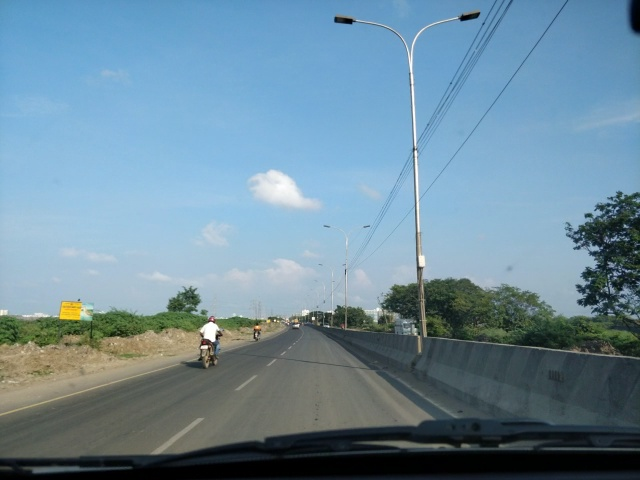bus: (392, 313, 417, 346), (395, 316, 420, 335)
car: (288, 320, 304, 331)
motorbike: (199, 316, 227, 366), (244, 318, 268, 342)
